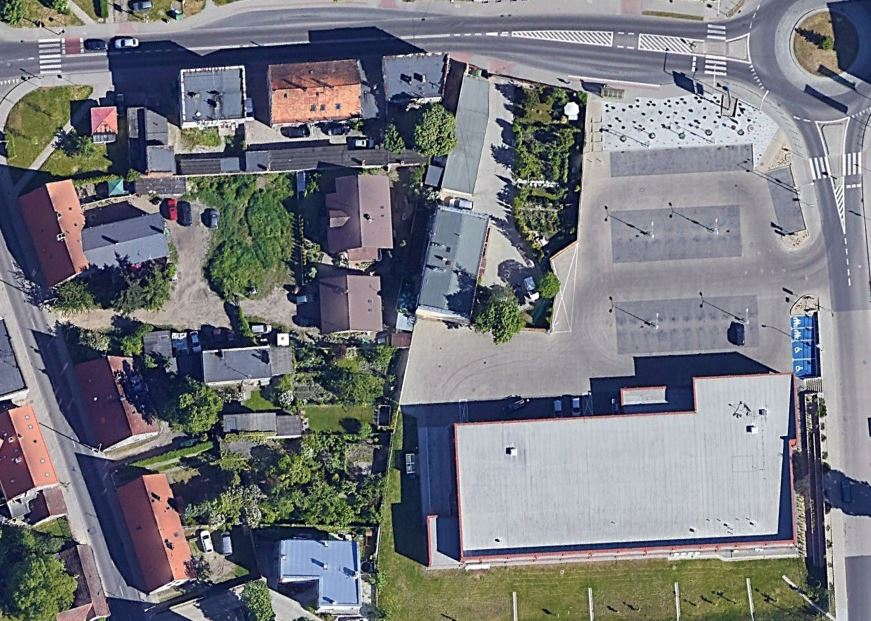family house: (16, 175, 176, 293), (112, 475, 205, 599), (70, 348, 167, 455), (409, 204, 492, 323), (422, 61, 492, 195), (1, 401, 70, 530), (271, 533, 373, 619), (264, 55, 368, 129), (322, 171, 402, 267), (177, 61, 255, 127), (312, 270, 385, 340), (54, 542, 112, 621), (378, 47, 451, 106), (1, 312, 34, 403)
shopping_center: (420, 366, 812, 579)
